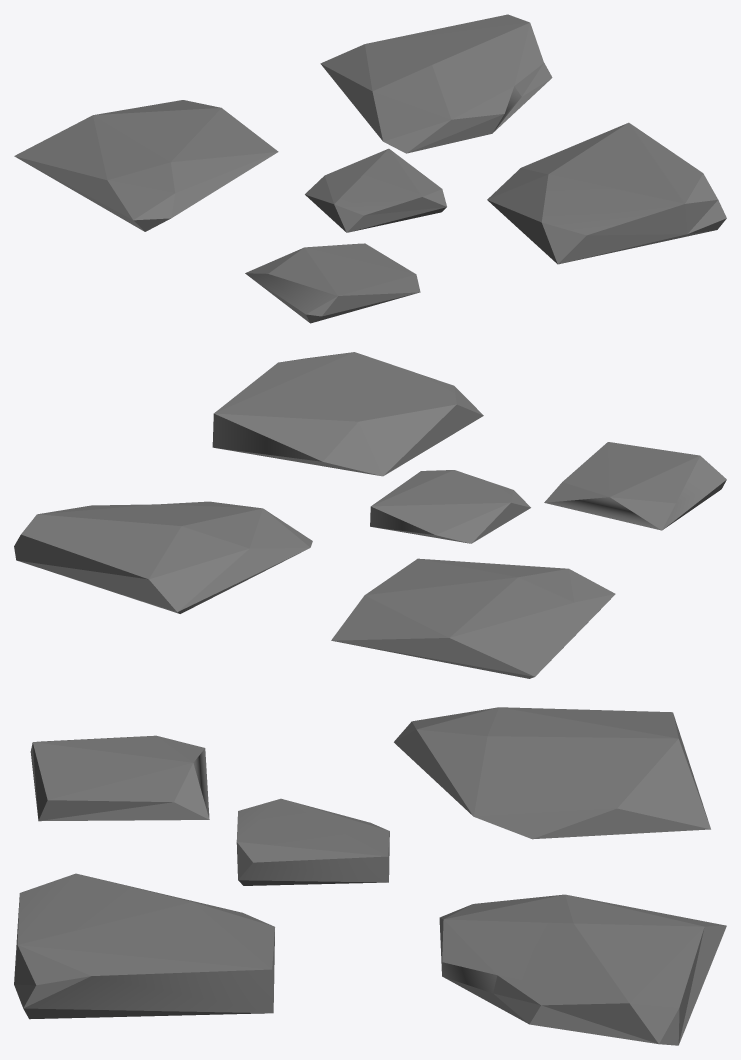
File: Tile_04.fbx
The picture shows the model from 3 angles, top to bottom: view 1: azimuth 30°, elevation 25°; view 2: azimuth 150°, elevation 25°; view 3: azimuth 270°, elevation 25°; orthographic projection. The views are drawn at different scales.
Visible parts, largest first — view 1: Tile_04; view 2: Tile_04; view 3: Tile_04.
Boxes of the visible parts, left/top/right/bottom form: Tile_04: left=14, top=14, right=726, bottom=323; Tile_04: left=14, top=352, right=726, bottom=678; Tile_04: left=14, top=707, right=726, bottom=1045.
Bounding box in the file's own units: 1.61 × 0.1271 × 1.47.
